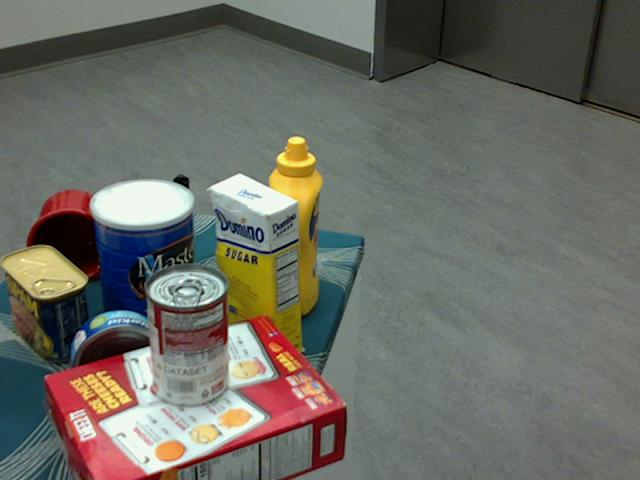cracker_box: (46, 316, 347, 479)
large_marker: (173, 174, 193, 269)
master_chef_can: (89, 179, 196, 342)
mug: (20, 190, 112, 284)
mustard_bottle: (266, 136, 321, 315)
potted_meat_can: (0, 244, 91, 362)
sugar_box: (210, 173, 301, 366)
tomato_soup_can: (143, 265, 227, 408)
tuna_fish_can: (70, 310, 167, 404)
